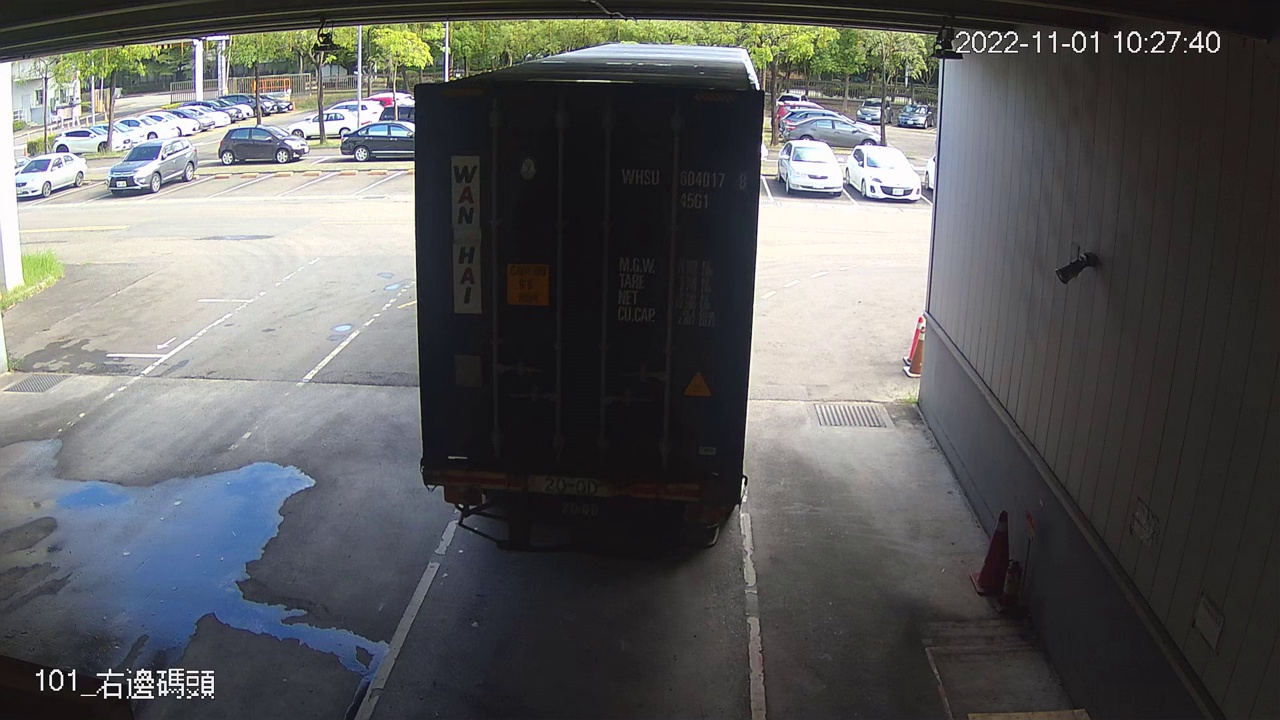container: (615, 156, 752, 218)
